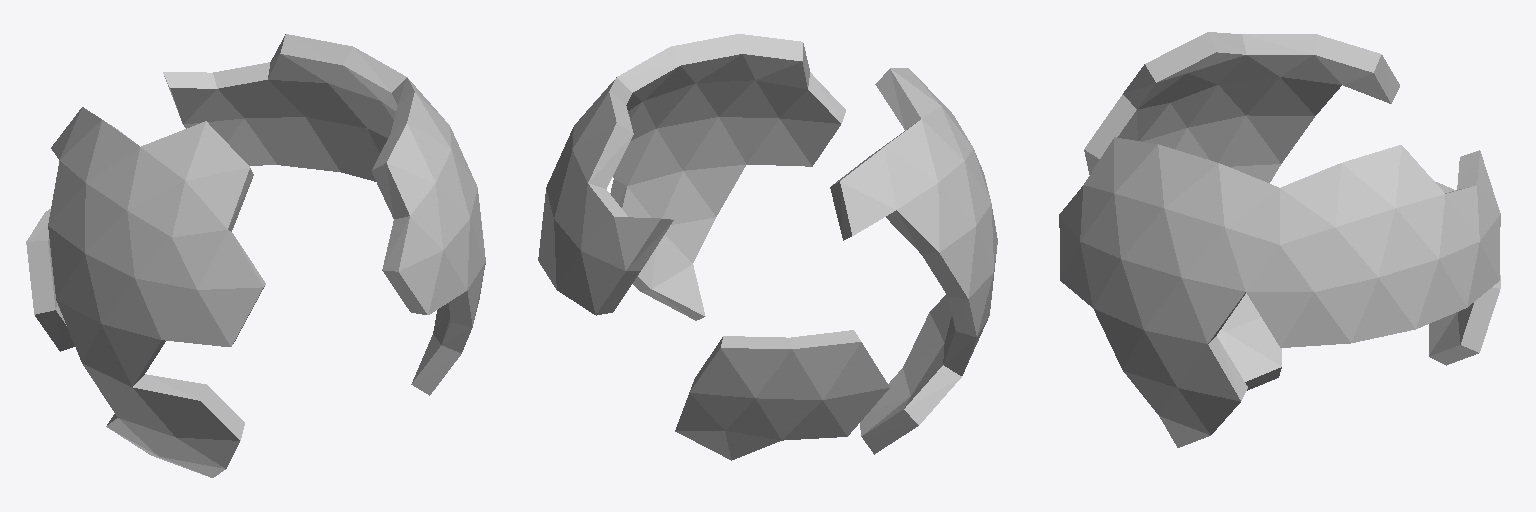
File: EarthLand.obj
The picture shows the model from 3 angles: view 1: azimuth 30°, elevation 25°; view 2: azimuth 150°, elevation 25°; view 3: azimuth 270°, elevation 25°; orthographic projection.
Visible parts, largest first — view 1: Icosphere.001_Icosphere.003; view 2: Icosphere.001_Icosphere.003; view 3: Icosphere.001_Icosphere.003.
Boxes of the visible parts, x1=… form: Icosphere.001_Icosphere.003: x1=26, y1=34, x2=485, y2=477; Icosphere.001_Icosphere.003: x1=538, y1=34, x2=997, y2=460; Icosphere.001_Icosphere.003: x1=1059, y1=32, x2=1500, y2=447.
Size of the model in its own units: 2.07 by 1.8 by 1.98.